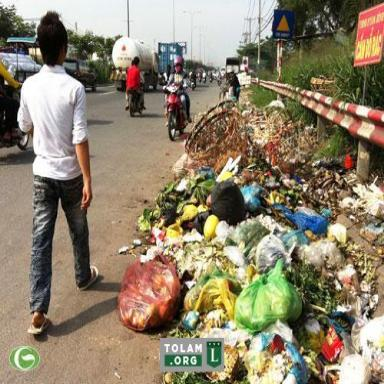plasticbag: (119, 152, 384, 383), (230, 248, 304, 338), (114, 251, 183, 337), (245, 320, 308, 383), (279, 200, 330, 234), (210, 175, 244, 222)
